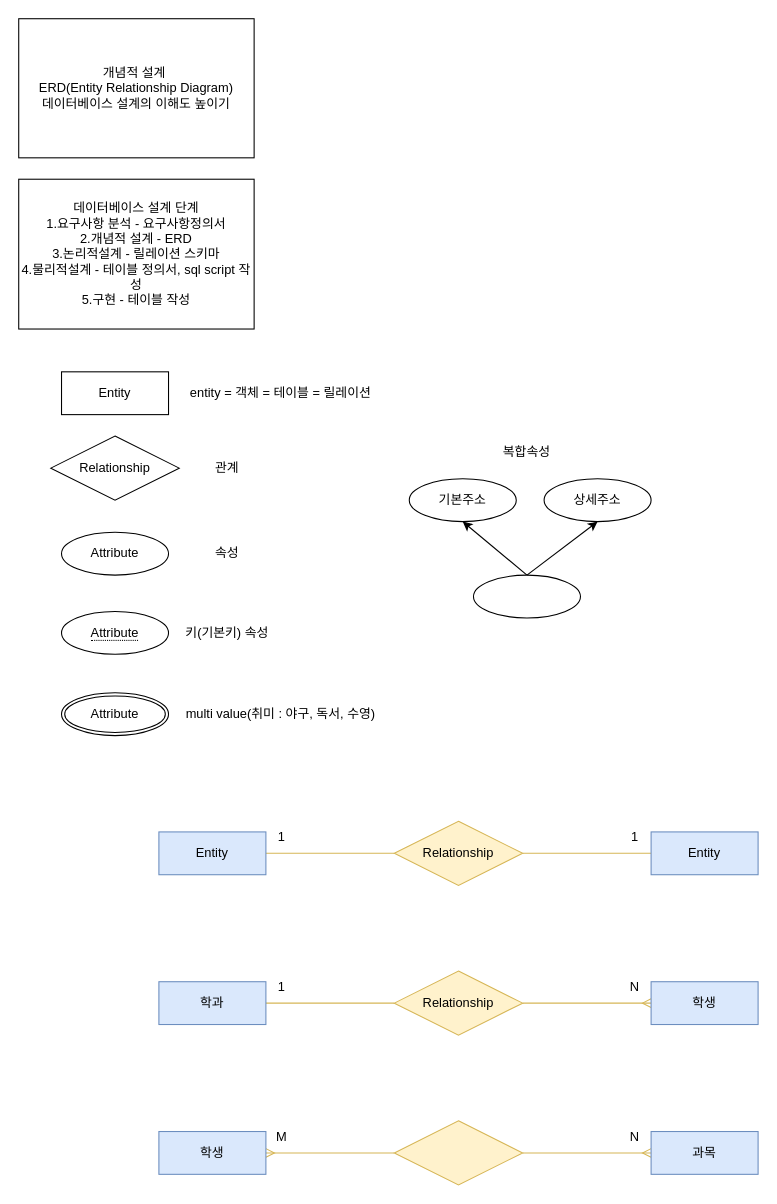
Some shapes in this 777 by 1204 pixel diagram are drawn without their labels. Here are the shapes that lost their labels. From the top down, the centre of each, then its label:
At (x=526, y=596): "배송지".
At (x=458, y=1152): "수강".
